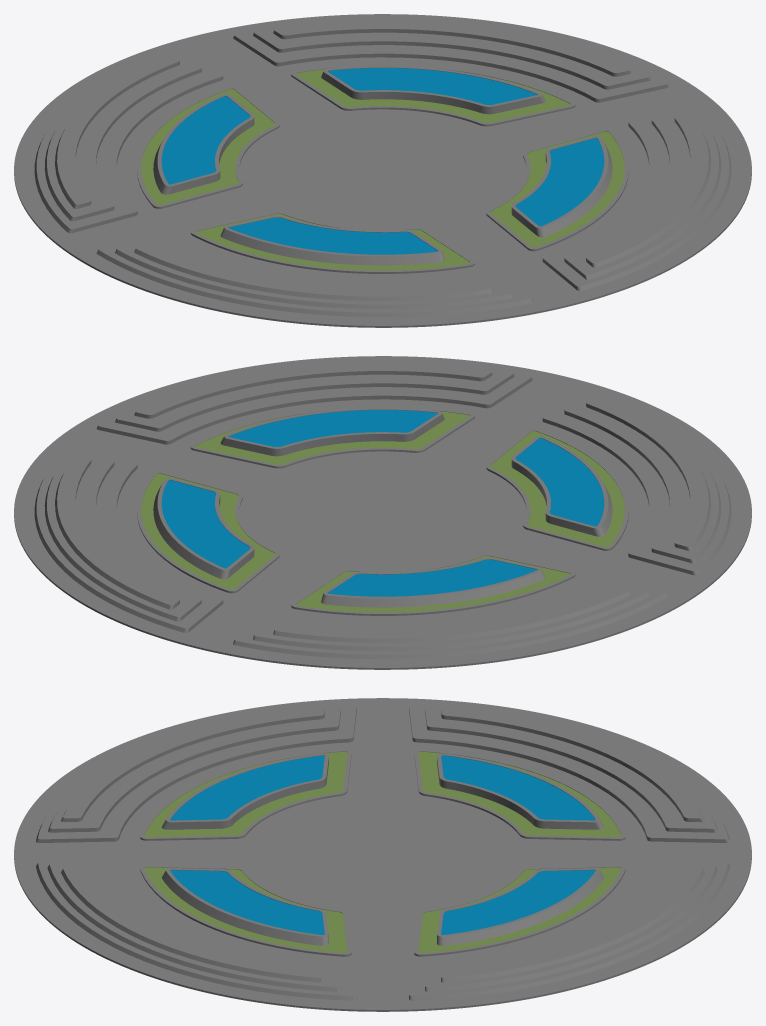
3 views of the same model, one above another, from view 1: azimuth 30°, elevation 25°; view 2: azimuth 150°, elevation 25°; view 3: azimuth 270°, elevation 25° (orthographic).
Parts seen in each view (by area): view 1: Square; view 2: Square; view 3: Square.
Part boxes in pixels (x1,y1,x2,y2): Square: [14, 14, 751, 327]; Square: [14, 356, 751, 669]; Square: [14, 698, 751, 1011].
Size of the model in its own units: 1.8 by 0.035 by 1.8.
